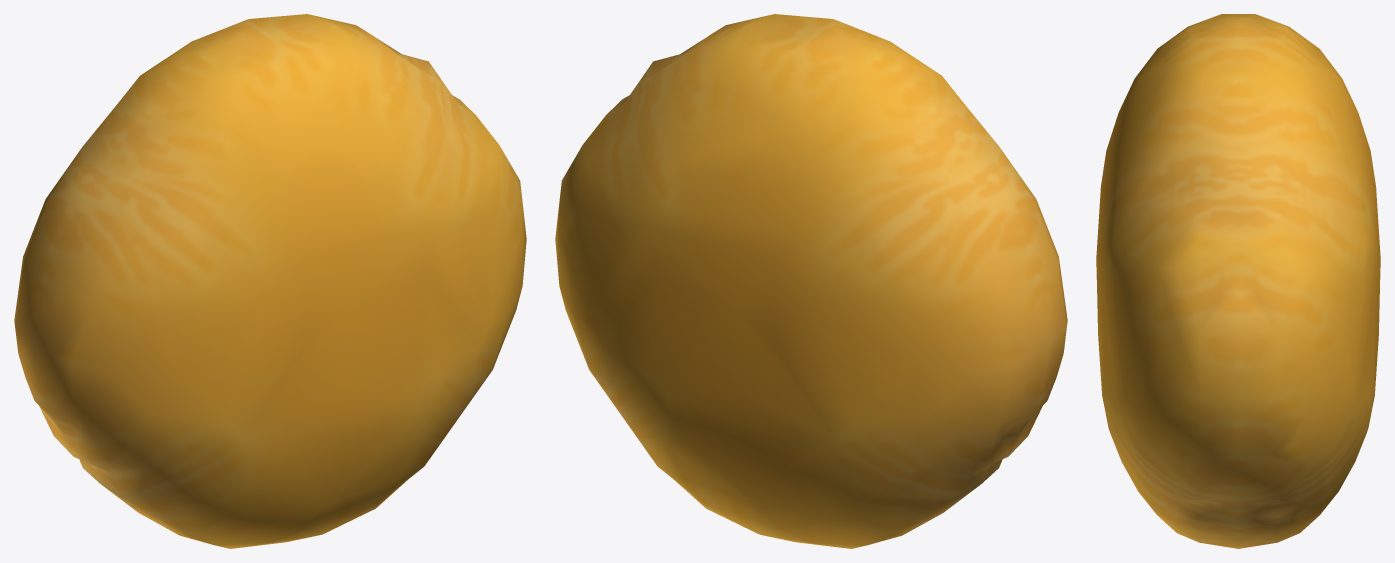
File: PartyBalloons02_7.FBX
3 views of the same model, side by side, from view 1: azimuth 30°, elevation 25°; view 2: azimuth 150°, elevation 25°; view 3: azimuth 270°, elevation 25° (orthographic). The views are drawn at different scales.
Parts seen in each view (by area): view 1: PartyBalloons02_7; view 2: PartyBalloons02_7; view 3: PartyBalloons02_7.
Boxes of the visible parts, left/top/right/bottom form: PartyBalloons02_7: left=14, top=14, right=526, bottom=548; PartyBalloons02_7: left=555, top=14, right=1067, bottom=548; PartyBalloons02_7: left=1096, top=14, right=1380, bottom=548.
Size of what is drawn, in the model's own units: 0.4232 by 0.4216 by 0.2242.
